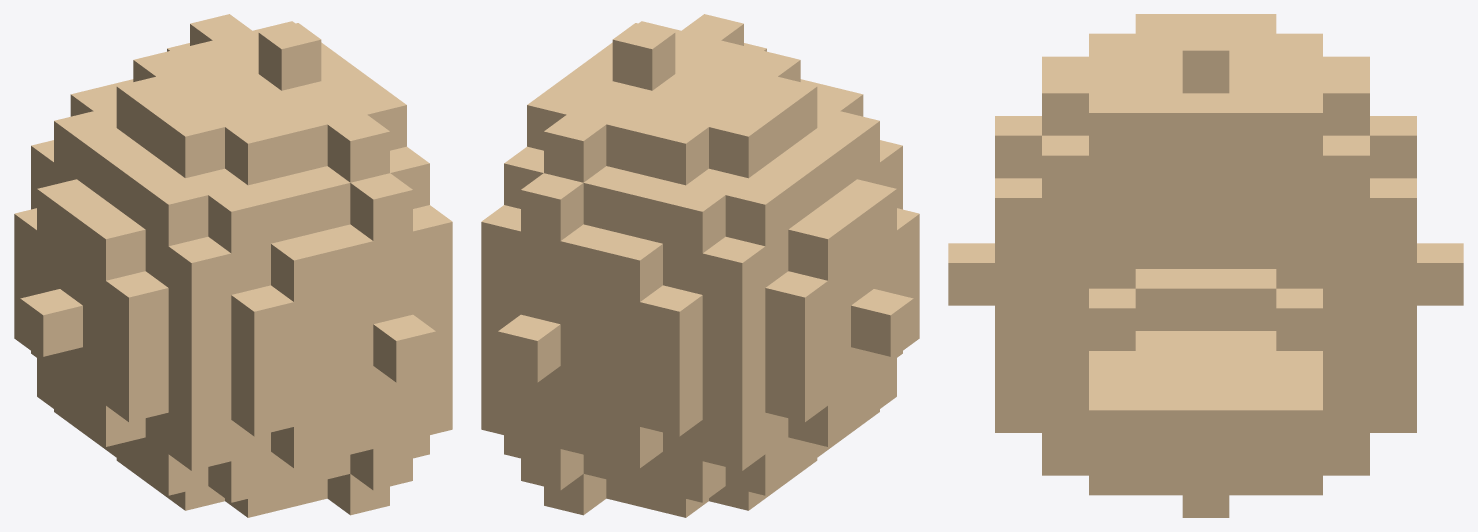
The model's file is alien-biosphere-husk-fragment-ece9f272__22812.glb.
3 views of the same model, side by side, from view 1: azimuth 30°, elevation 25°; view 2: azimuth 150°, elevation 25°; view 3: azimuth 270°, elevation 25° (orthographic). The views are drawn at different scales.
Visible parts, largest first — view 1: husk-fragment; view 2: husk-fragment; view 3: husk-fragment.
Part boxes in pixels (left/top/right/bottom): husk-fragment: left=14, top=14, right=452, bottom=517; husk-fragment: left=481, top=14, right=919, bottom=517; husk-fragment: left=948, top=14, right=1463, bottom=517.
Bounding box in the file's own units: 0.96 × 1.32 × 1.32.
